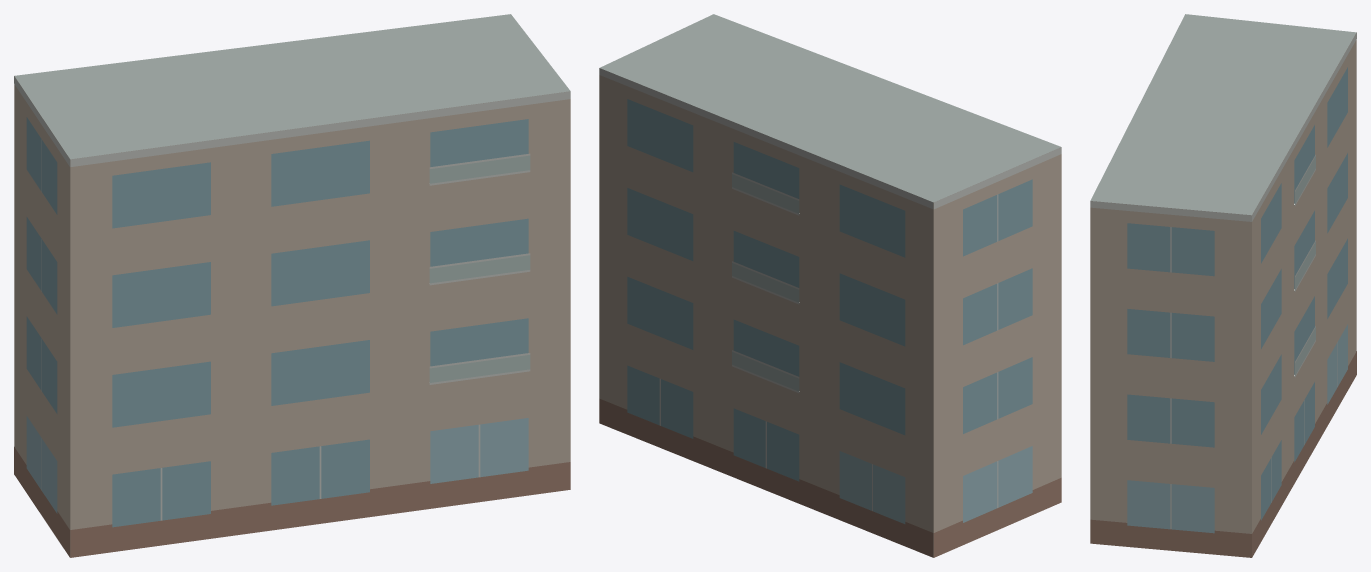
Rendered from survey-upis-32632313.glb.
3 renders of one model, left to right at view 1: azimuth 30°, elevation 25°; view 2: azimuth 150°, elevation 25°; view 3: azimuth 270°, elevation 25°, orthographic. The views are drawn at different scales.
Visible parts, largest first — view 1: survey-upis-32632313.tmp; view 2: survey-upis-32632313.tmp; view 3: survey-upis-32632313.tmp.
Part boxes in pixels (box(x1,y1,x2,y2)): survey-upis-32632313.tmp: box(14, 14, 570, 557); survey-upis-32632313.tmp: box(599, 14, 1061, 557); survey-upis-32632313.tmp: box(1090, 14, 1356, 557).
Bounding box in the file's own units: 15.63 × 12.4 × 8.75.
